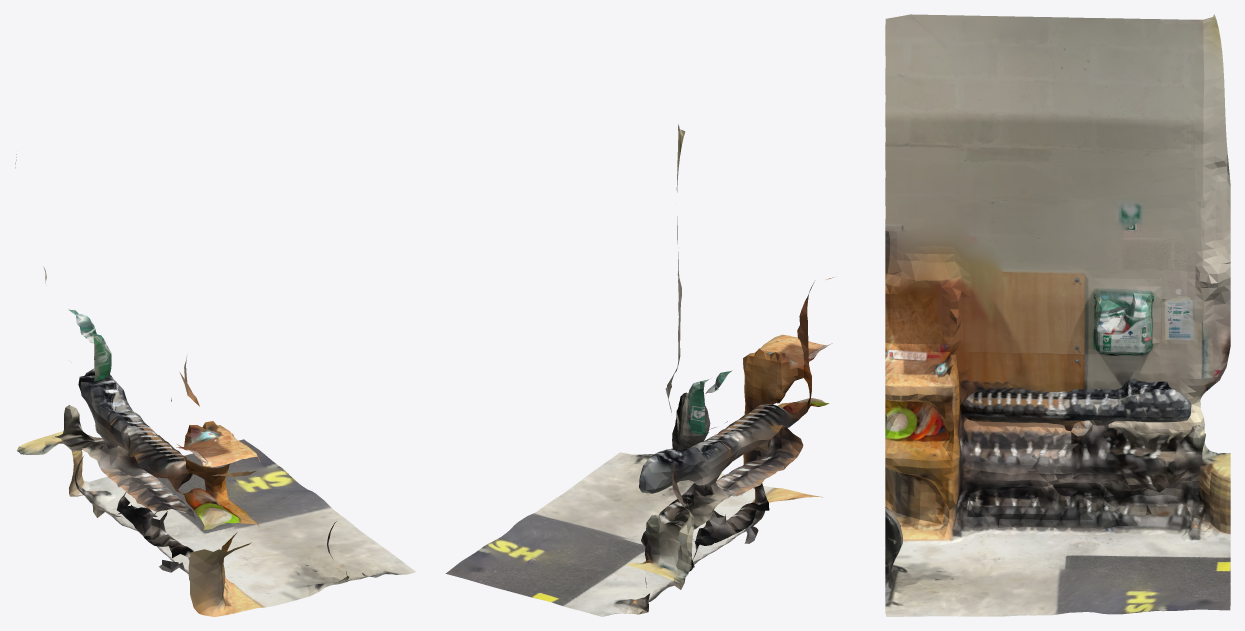
Rendered from defibrillateur-crossfit-hawks-nest.glb.
3 renders of one model, left to right at view 1: azimuth 30°, elevation 25°; view 2: azimuth 150°, elevation 25°; view 3: azimuth 270°, elevation 25°, orthographic.
Bounding box in the file's own units: 1.79 × 3.61 × 2.3.
Materials: 4 (4 with a texture image).
